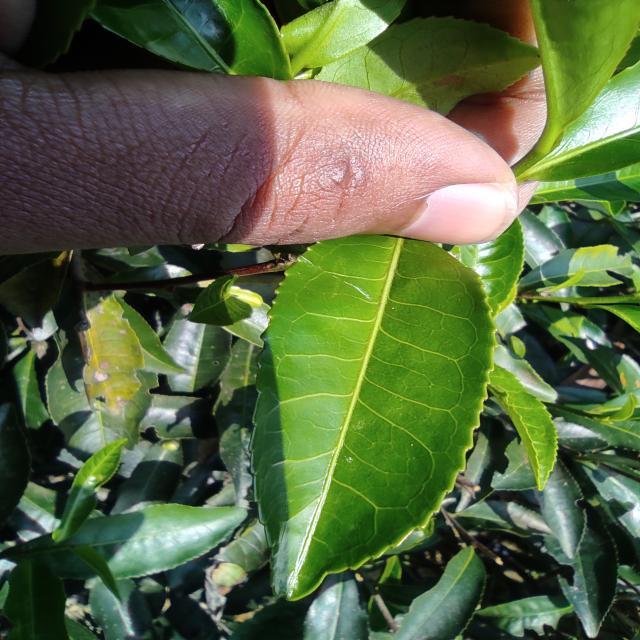Category C 4-7 days: (239, 222, 513, 609)
